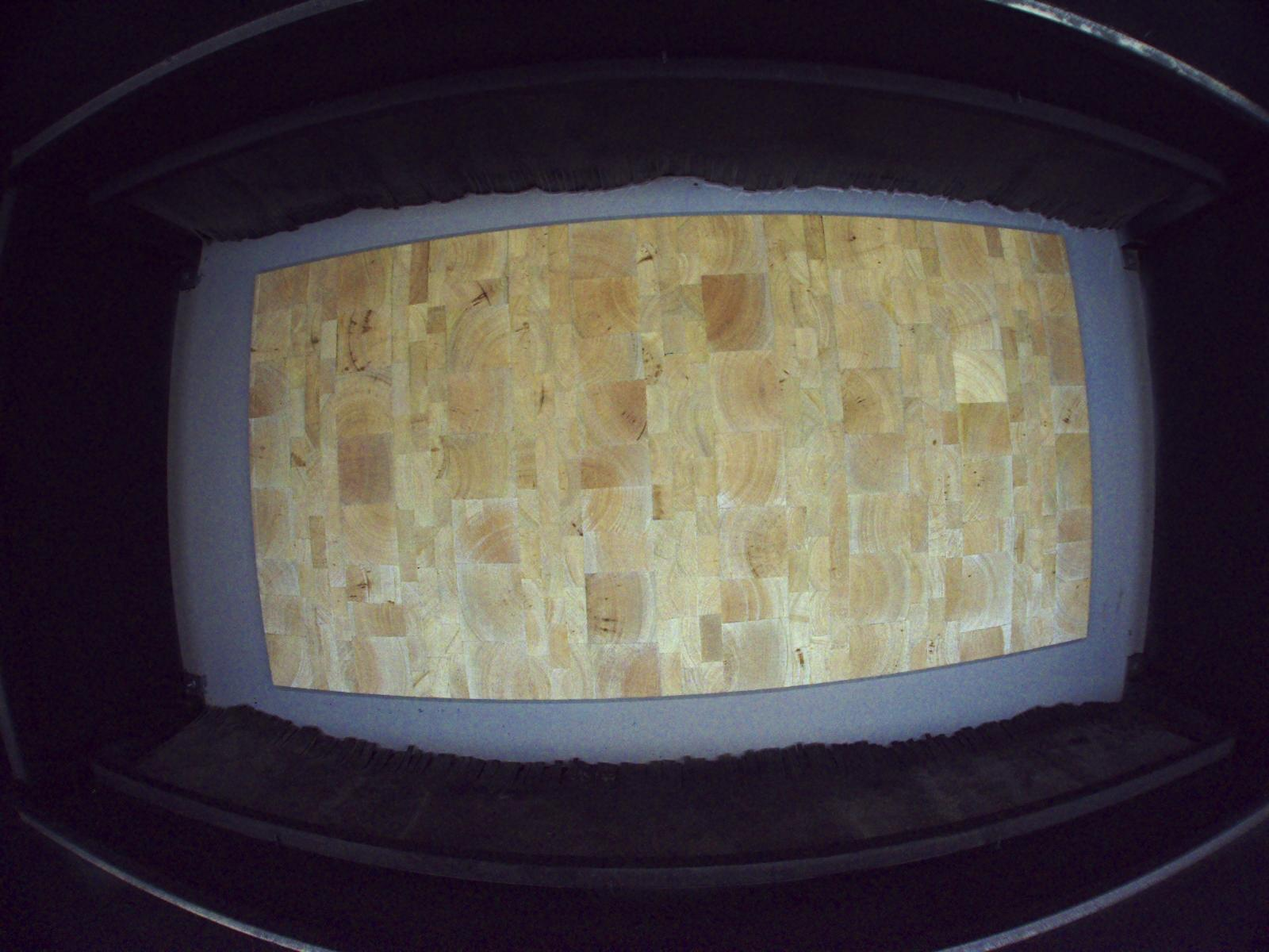sheck_ecuatoriano: (470, 279, 494, 308), (310, 301, 323, 351), (637, 243, 657, 274)
